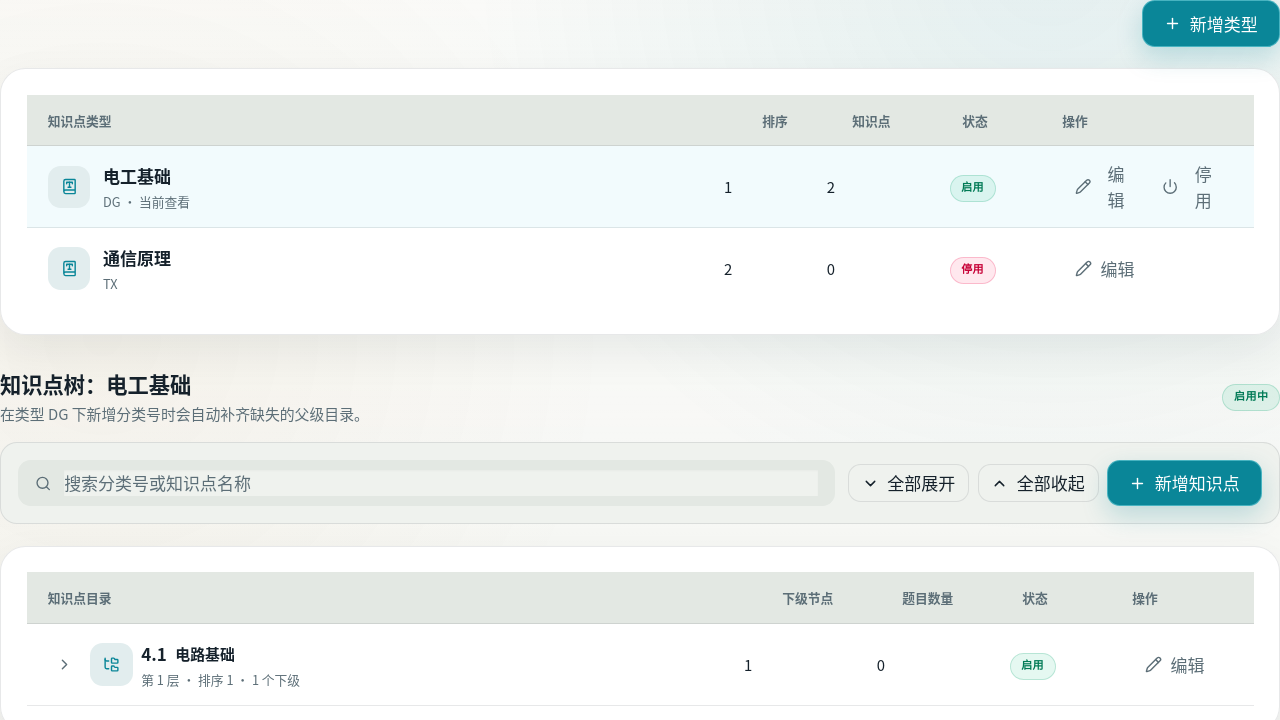
Scenario: KnowledgePointTypeManager › shows types, active type tree and disabled state
The image size is (1280, 720).
Expected: the text "电工基础" is shown, [103,164,171,188]
Expected: the text "DG · 当前查看" is shown, [103,193,190,210]
Click the button named "展开" at coordinates (65, 664), box [48,648,82,682]
(page scrolled)
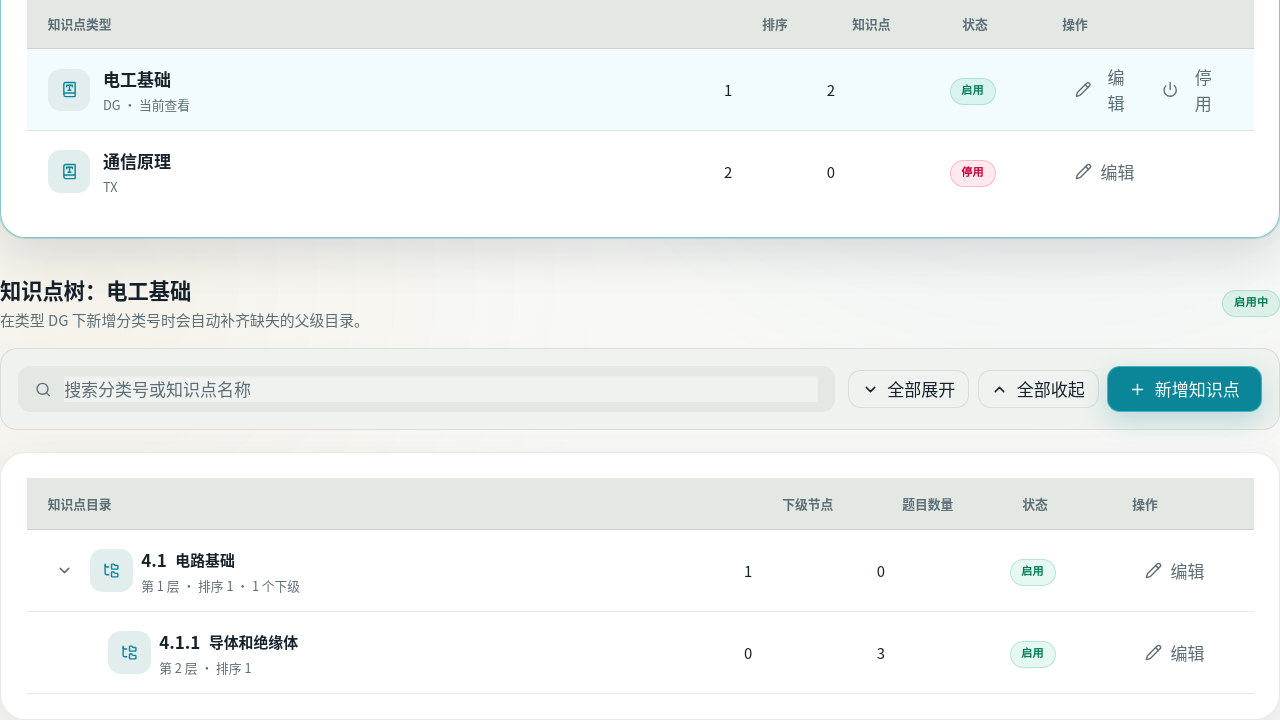
Expected: the text "导体和绝缘体" is shown, [209,631,298,652]
